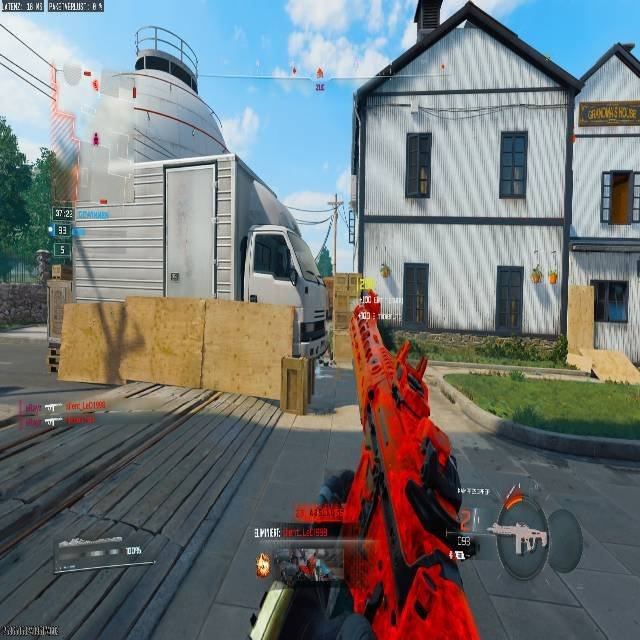head: (360, 288, 377, 305)
player: (297, 306, 334, 372), (351, 288, 382, 360), (45, 341, 61, 376)
